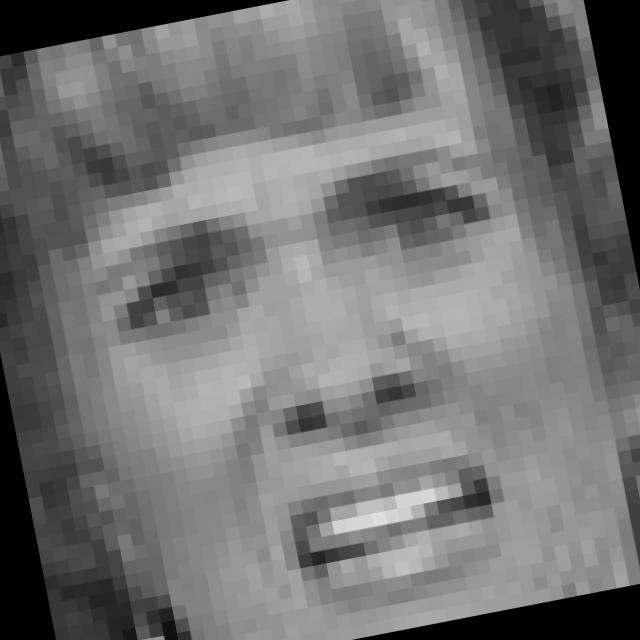disgust: (76, 126, 583, 640)
